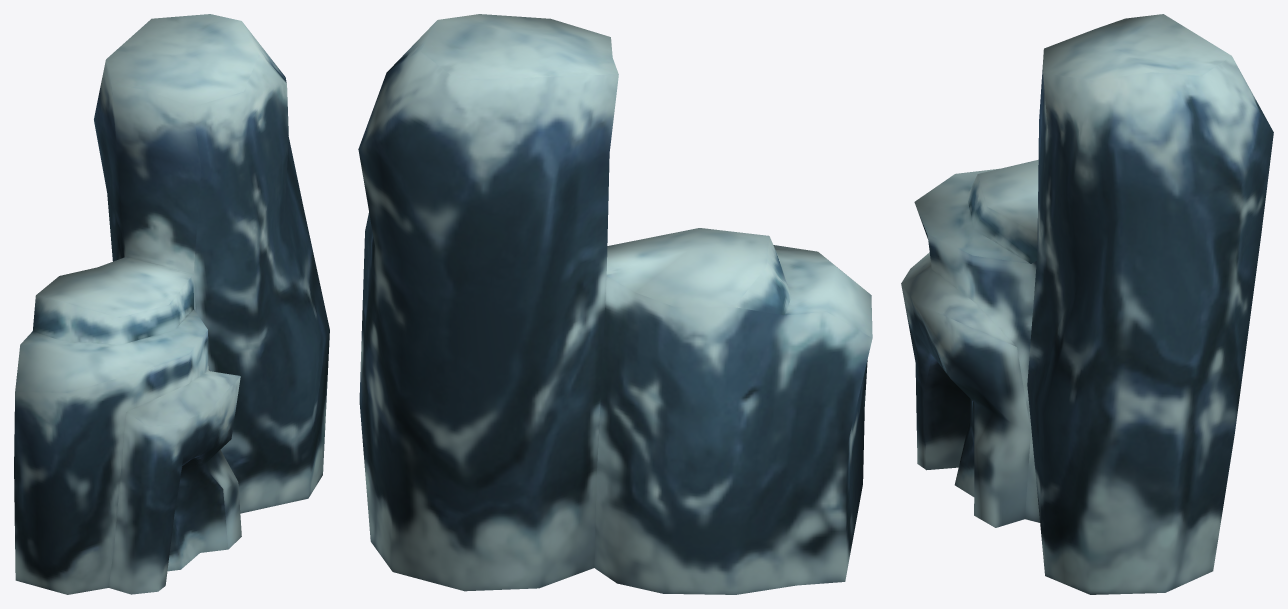
File: Stage_BingYuan_ShanShi06.FBX
3 renders of one model, left to right at view 1: azimuth 30°, elevation 25°; view 2: azimuth 150°, elevation 25°; view 3: azimuth 270°, elevation 25°, orthographic. The views are drawn at different scales.
Parts seen in each view (by area): view 1: Stage_BingYuan_ShanShi06; view 2: Stage_BingYuan_ShanShi06; view 3: Stage_BingYuan_ShanShi06.
Part boxes in pixels (x1,y1,x2,y2): Stage_BingYuan_ShanShi06: (14,14,329,594); Stage_BingYuan_ShanShi06: (358,14,872,594); Stage_BingYuan_ShanShi06: (901,14,1273,594).
Size of the model in its own units: 649 by 778 by 532.
